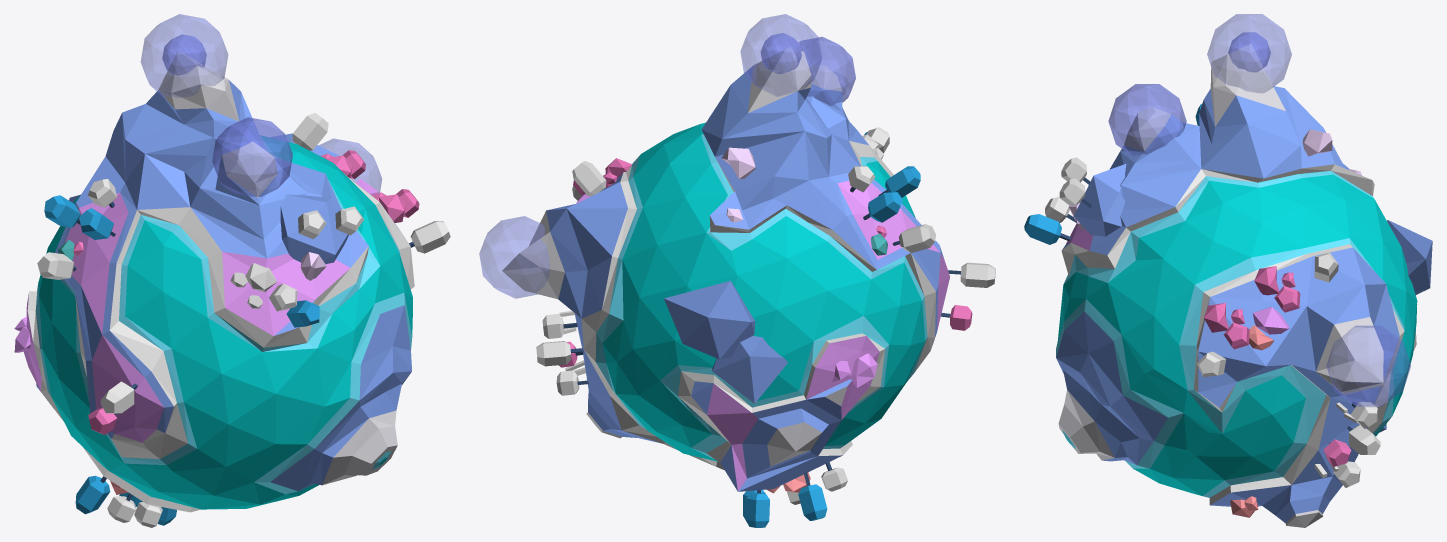
Rendered from watchC_planet07.dae.
The picture shows the model from 3 angles, left to right: view 1: azimuth 30°, elevation 25°; view 2: azimuth 150°, elevation 25°; view 3: azimuth 270°, elevation 25°; orthographic projection. The views are drawn at different scales.
Visible parts, largest first — view 1: mundo1.001; view 2: mundo1.001; view 3: mundo1.001.
Boxes of the visible parts, x1=… form: mundo1.001: x1=14, y1=14, x2=450, y2=527; mundo1.001: x1=479, y1=14, x2=995, y2=527; mundo1.001: x1=1024, y1=14, x2=1432, y2=527.
Size of the model in its own units: 2.48 by 2.26 by 3.03.
